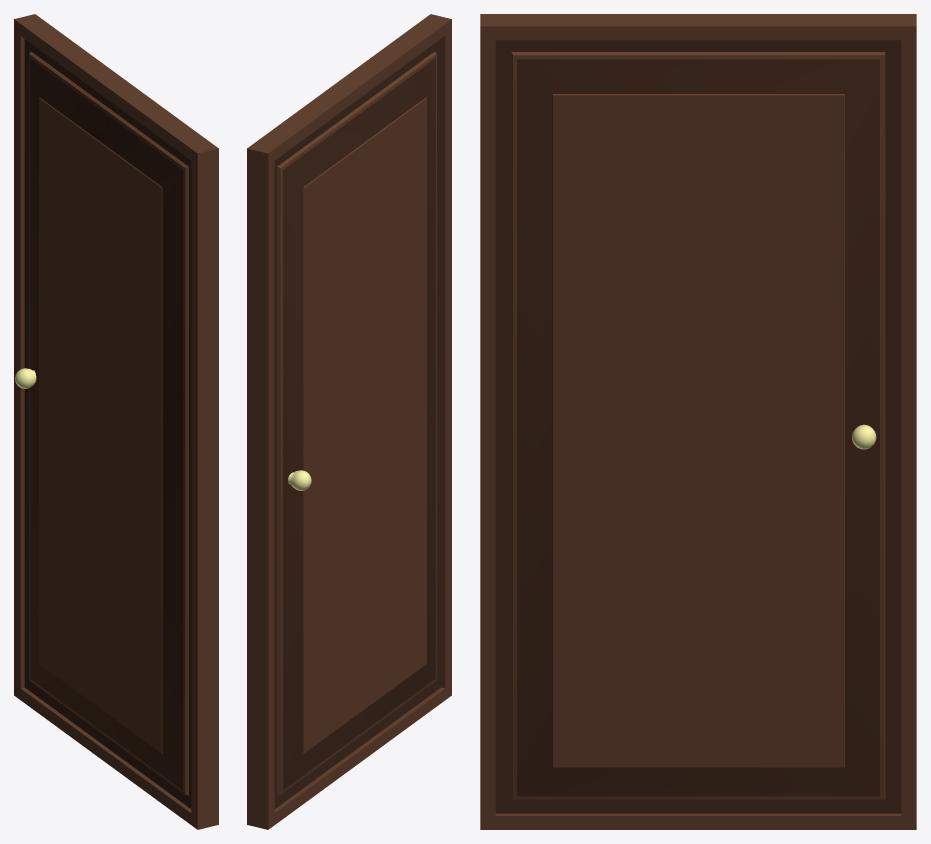
The model's file is HengedDoor.fbx.
The picture shows the model from 3 angles, left to right: view 1: azimuth 30°, elevation 25°; view 2: azimuth 150°, elevation 25°; view 3: azimuth 270°, elevation 25°; orthographic projection. The views are drawn at different scales.
Visible parts, largest first — view 1: HingedDoor; view 2: HingedDoor; view 3: HingedDoor.
Boxes of the visible parts, x1=… form: HingedDoor: x1=14, y1=14, x2=218, y2=829; HingedDoor: x1=247, y1=14, x2=451, y2=829; HingedDoor: x1=480, y1=14, x2=916, y2=829.
Bounding box in the file's own units: 38.24 × 406 × 200.
1 material, 1 textured.
